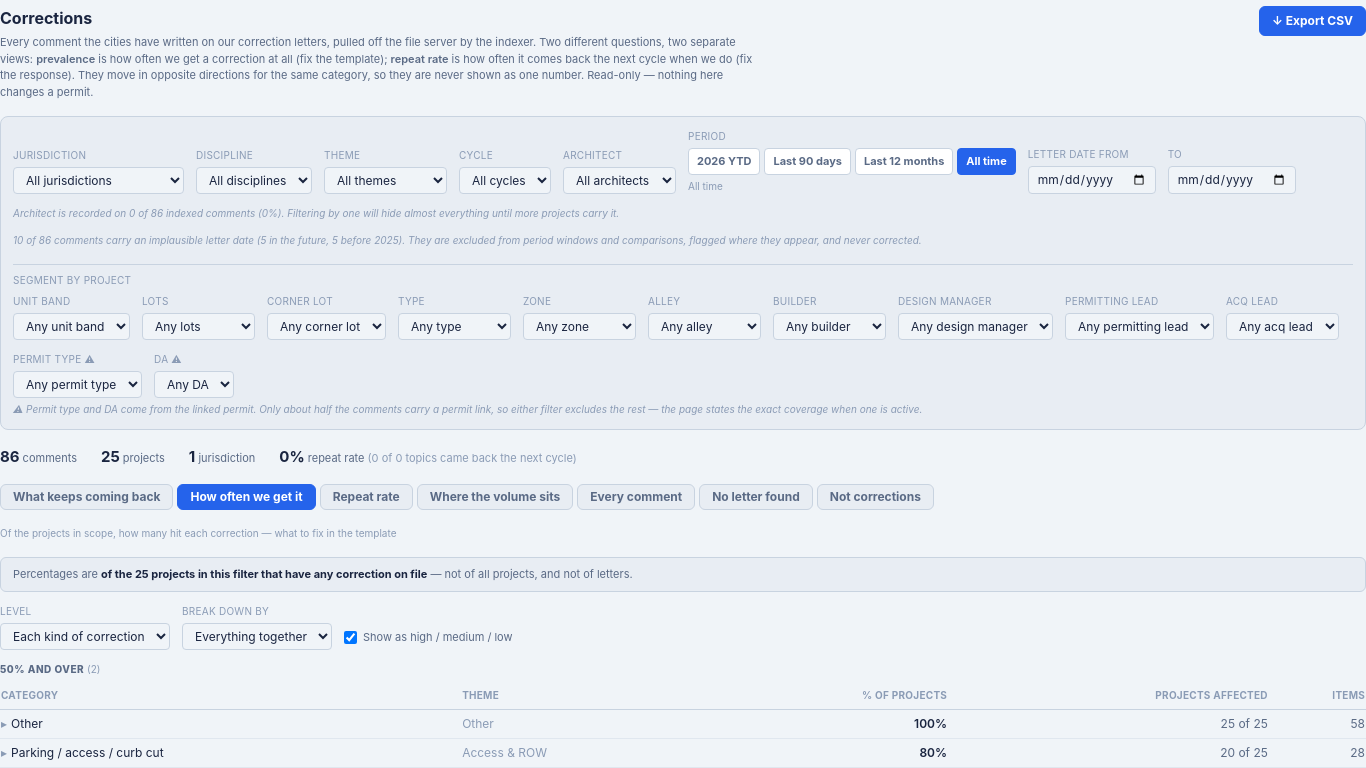
Scenario: fix-281 implausible dates › still appear in the drill-down, flagged, rather than vanishing
The width and height of the screenshot is (1366, 768).
(page scrolled)
Expected: the element with test id "corrections-prevalence" is shown, [0,557,1365,767]
Click the row with test id "prevalence-row-Other" at [683, 724], box [0,709,1365,738]
(page scrolled)
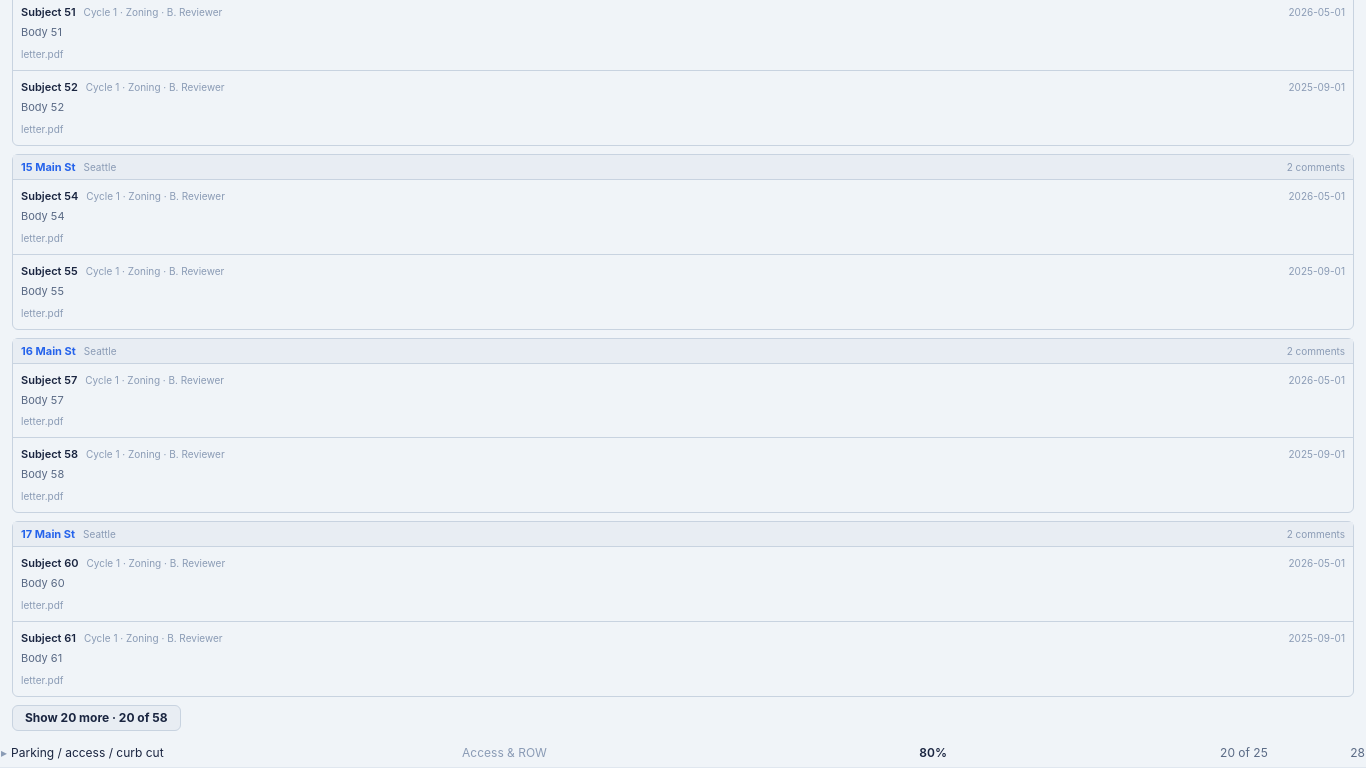
Click the button with test id "comments-more-Other" at [96, 718], box [12,705,181,731]
(page scrolled)
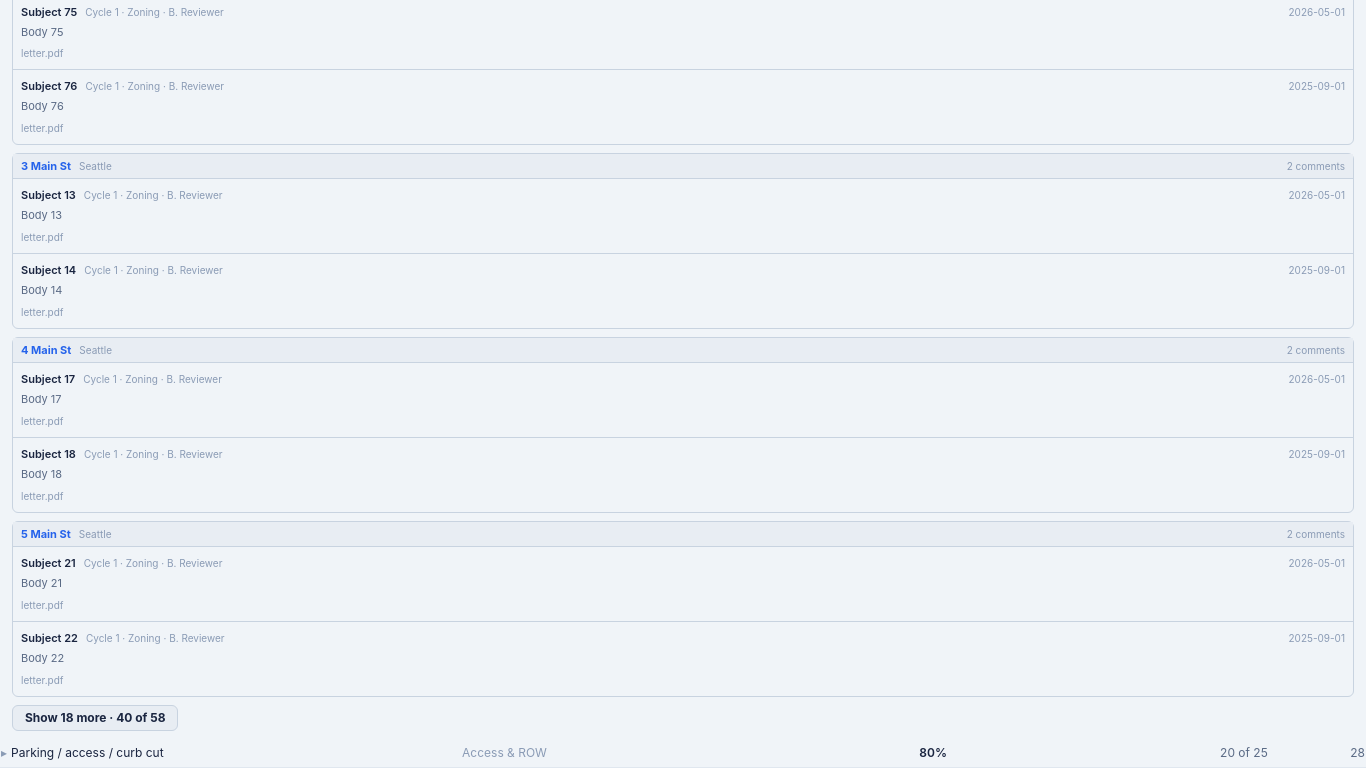
Click the button with test id "comments-more-Other" at [95, 718], box [12,704,178,730]
(page scrolled)
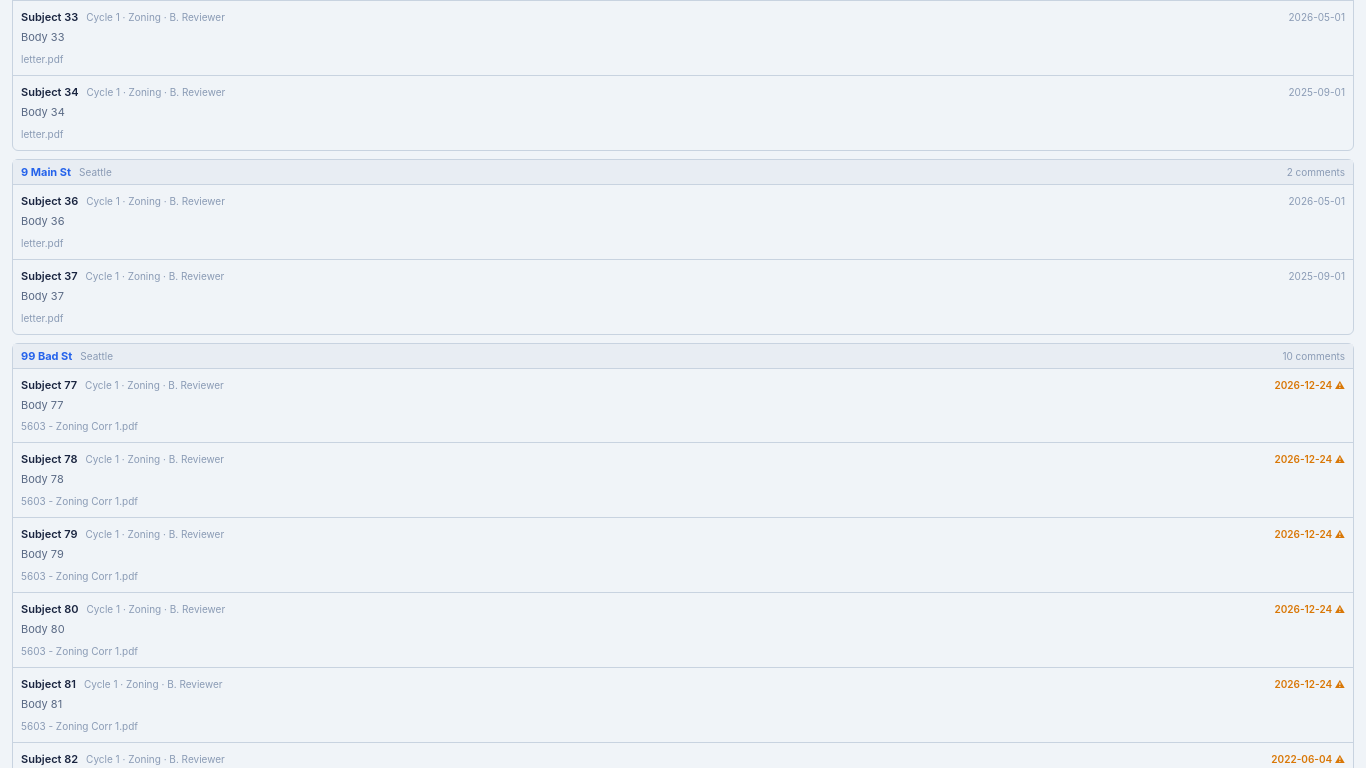
Expected: the text with test id "^comment-date-" shows "⚠", [1332,378,1345,390]
